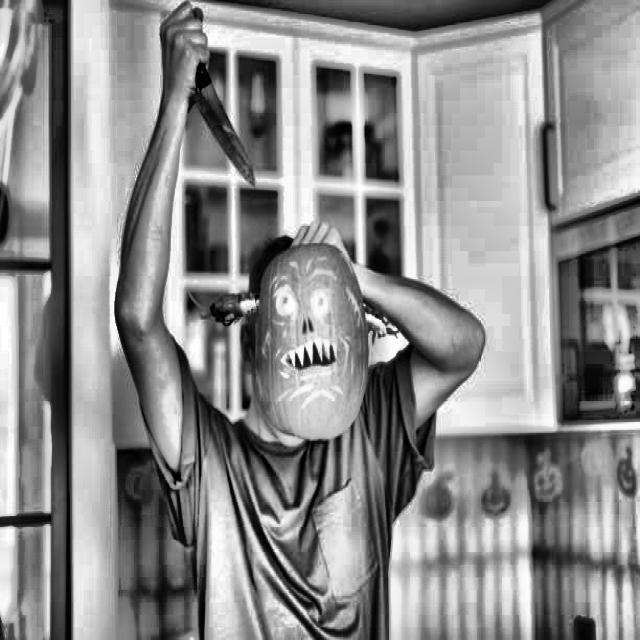pisau: (152, 1, 270, 194)
